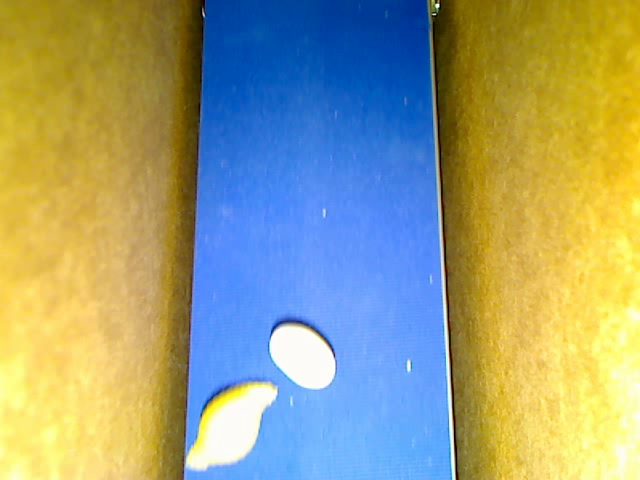shell: (185, 380, 278, 471)
